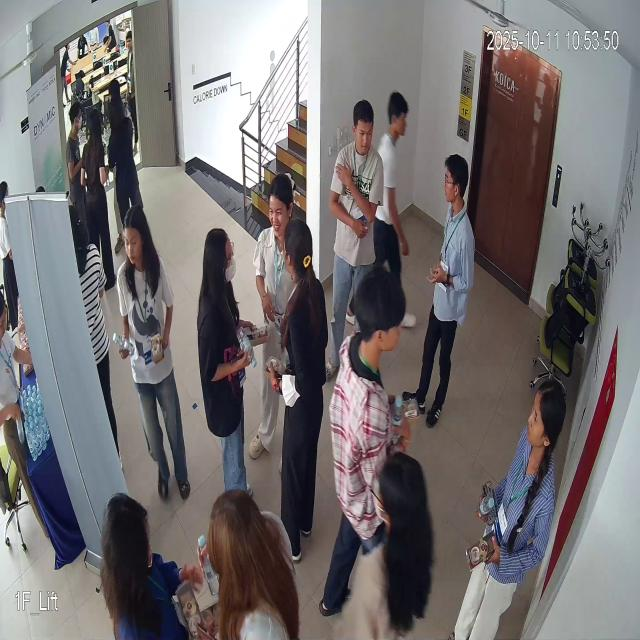face: (263, 165, 300, 245), (115, 200, 154, 272), (442, 150, 474, 213), (351, 99, 375, 158)
